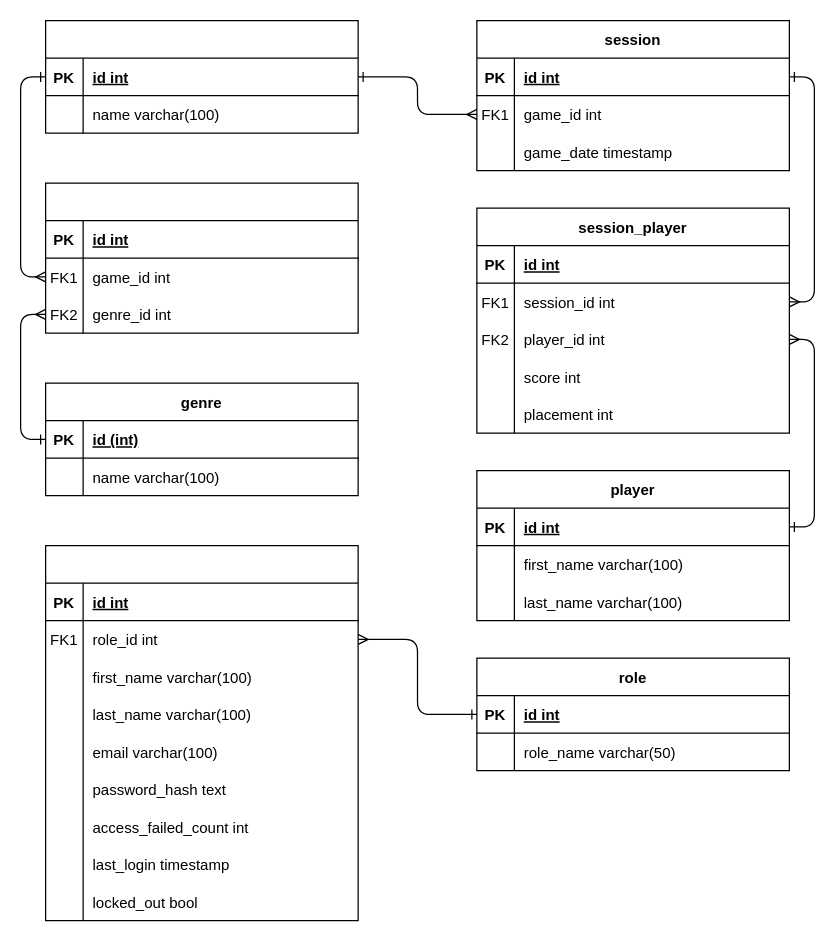
Some shapes in this 835 by 941 pixel diagram are drawn without their labels. The shapes that lost their labels are listed below. From the top down, each one's box as (x1, y1, x2, y2) in pixels, then its label:
(44, 19, 358, 133): game
(44, 182, 358, 333): game_genre
(44, 544, 358, 921): user
